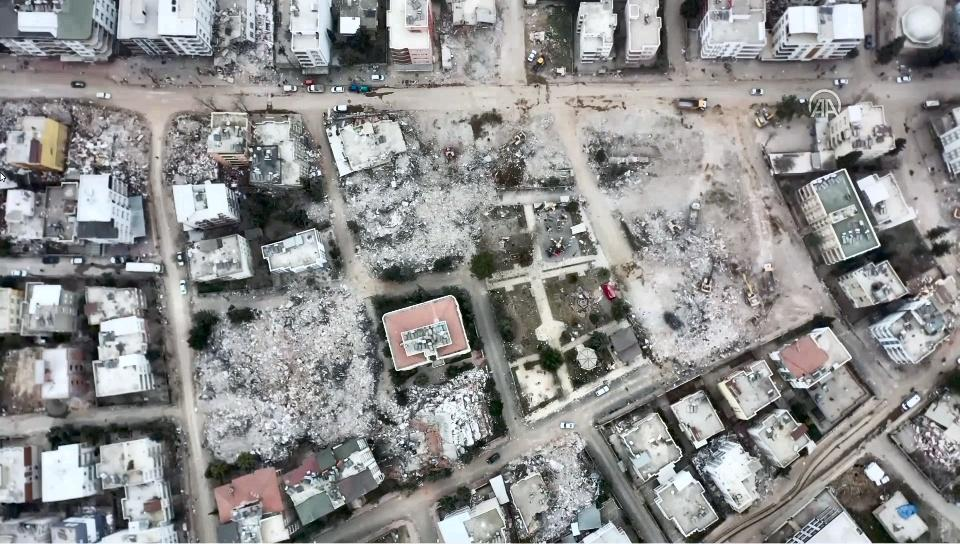kapali: (341, 268, 434, 498), (629, 298, 794, 404)
